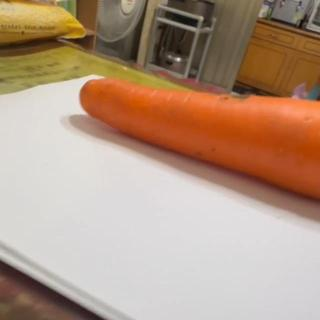carrot: (79, 75, 320, 204)
